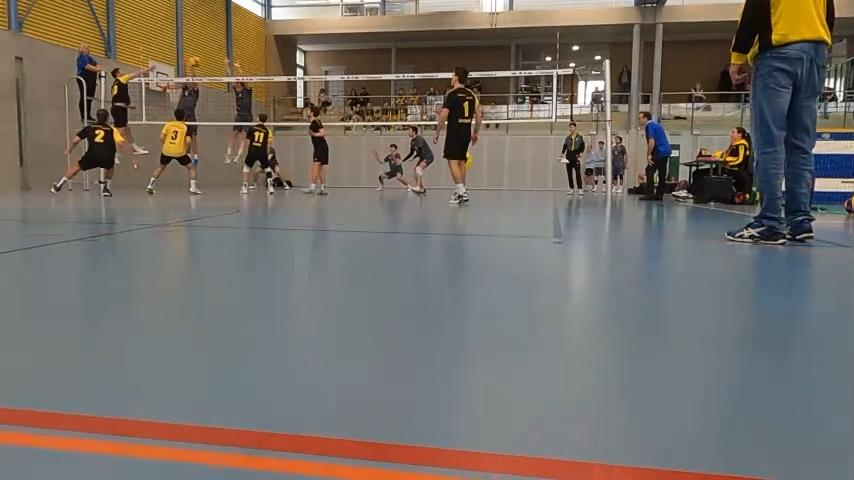Attack: (104, 61, 158, 167)
Block: (219, 57, 256, 169), (172, 67, 201, 170)
Player: (434, 67, 482, 203), (51, 109, 125, 196), (147, 108, 200, 194), (240, 113, 274, 194), (302, 105, 328, 194), (403, 126, 433, 193), (372, 144, 411, 190), (268, 146, 289, 189)
ball: (188, 55, 201, 67)
